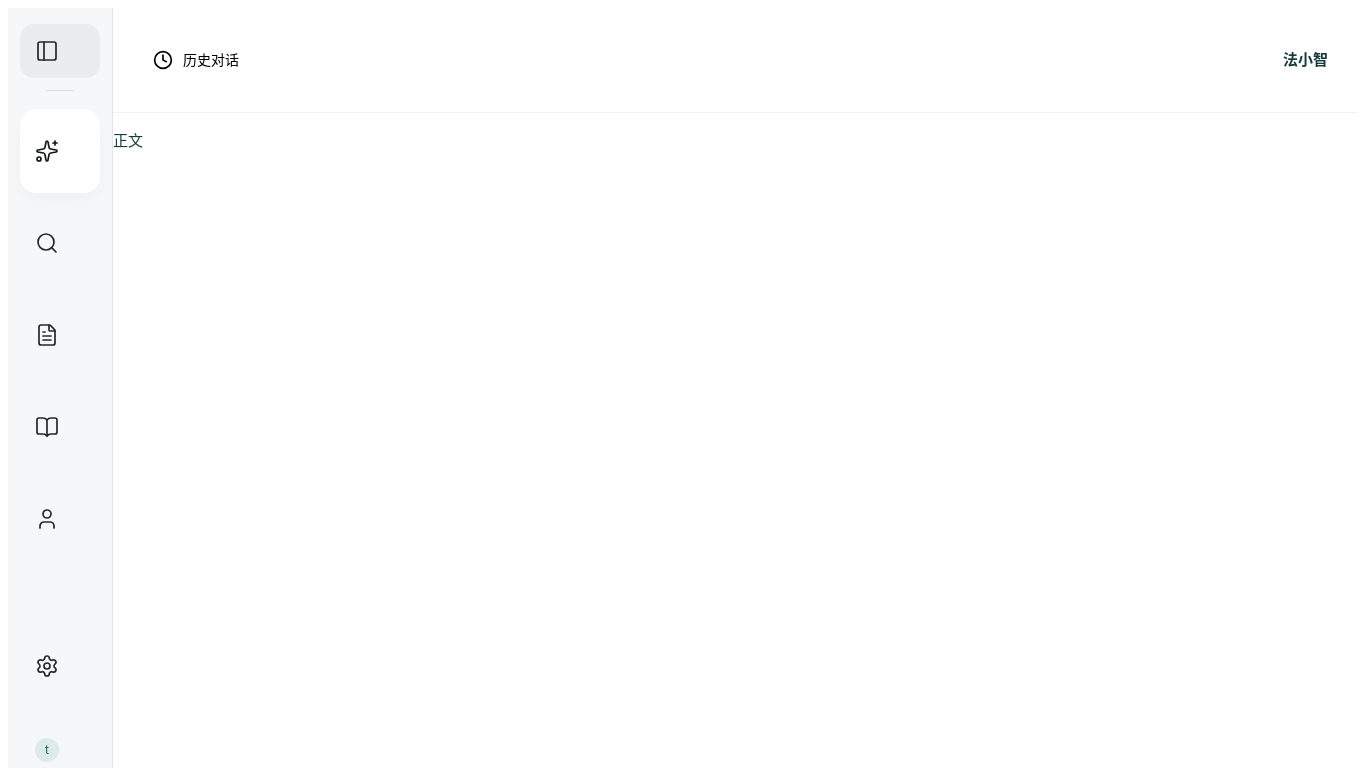
Test: keeps all five real routes and expands/collapses the rail
The width and height of the screenshot is (1366, 768).
Expected: the link named "设置" is shown, [35,654,59,678]
Click the button named "展开导航": (60, 51) [20,24,100,78]
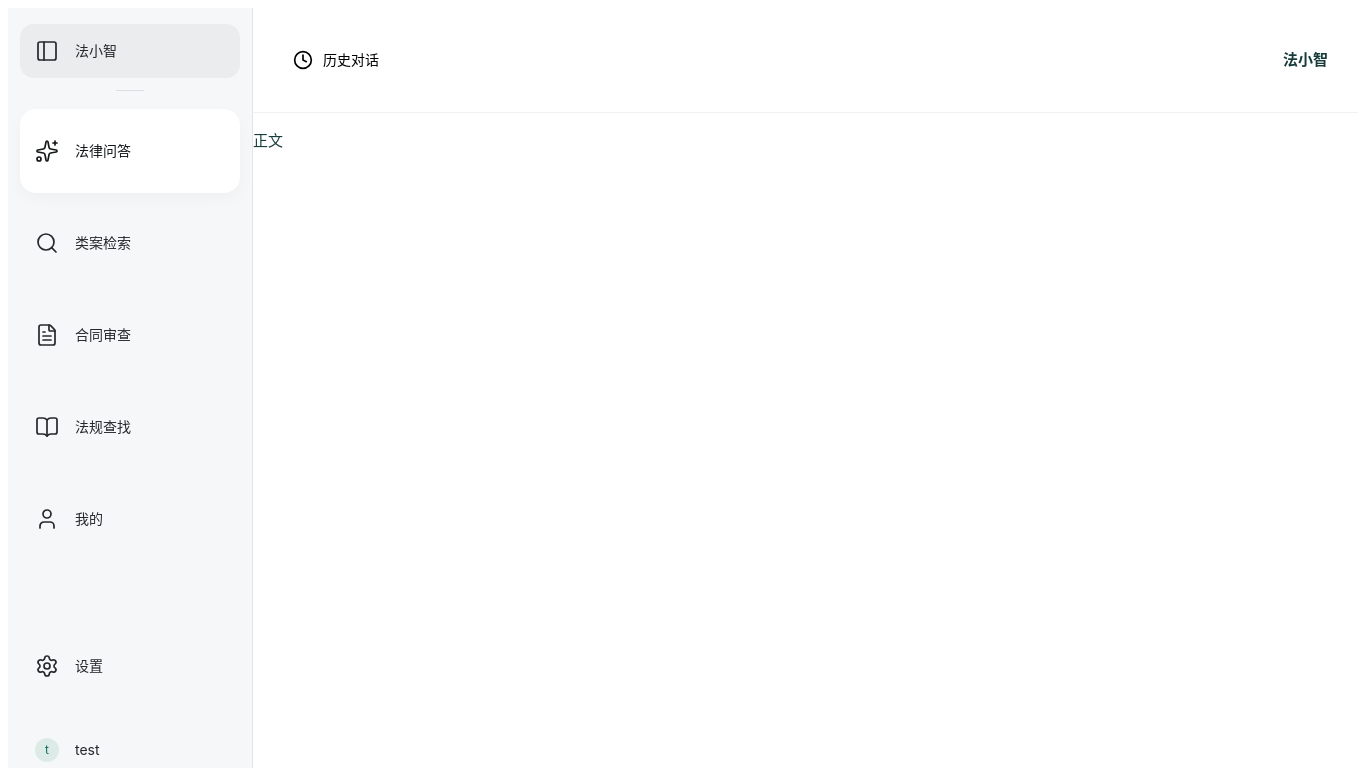
Now the button with aria-label "收起导航" is shown, box [20,24,240,78]
Press Escape
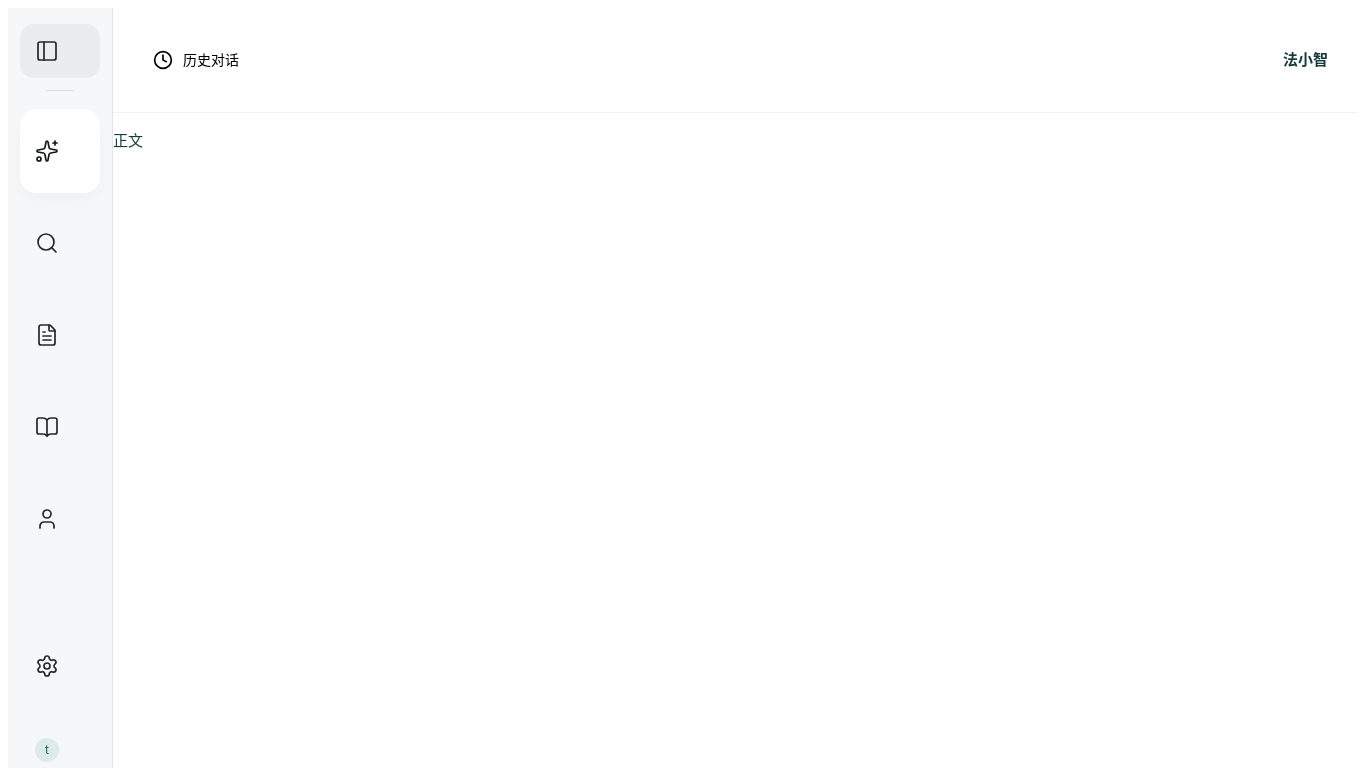
Now the button named "展开导航" is collapsed, box [20,24,100,78]
